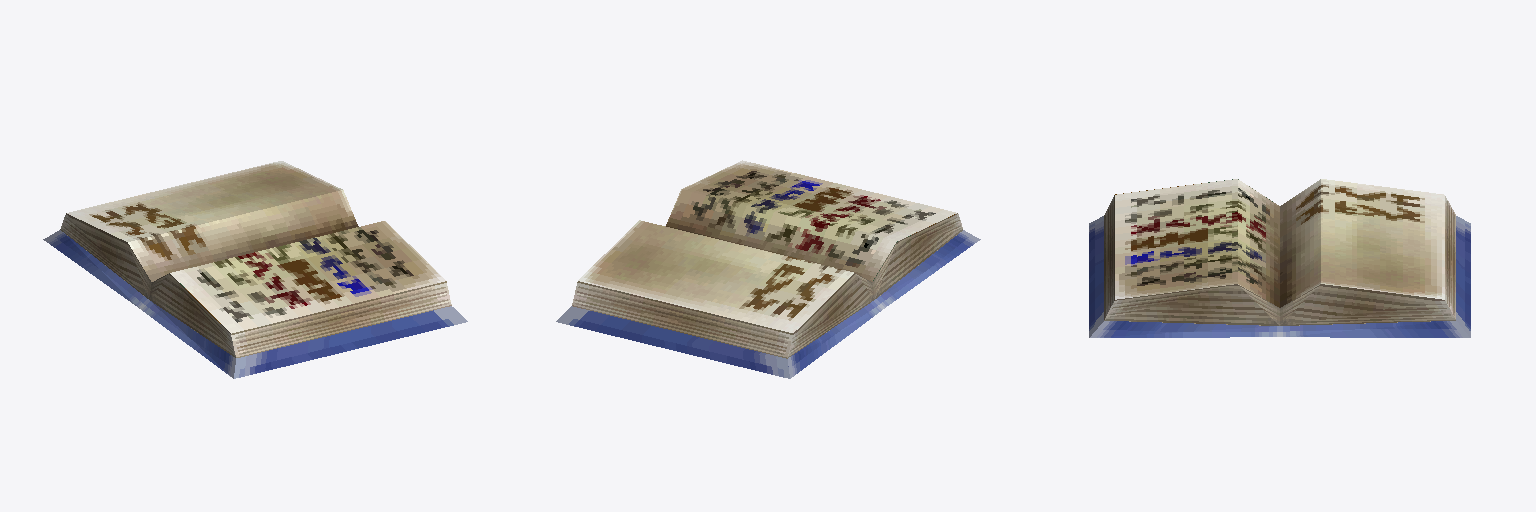
The picture shows the model from 3 angles: view 1: azimuth 30°, elevation 25°; view 2: azimuth 150°, elevation 25°; view 3: azimuth 270°, elevation 25°; orthographic projection.
Parts seen in each view (by area): view 1: bookmediumopen01.m2; view 2: bookmediumopen01.m2; view 3: bookmediumopen01.m2.
Part boxes in pixels (x1,y1,x2,y2): bookmediumopen01.m2: (43, 161, 467, 378); bookmediumopen01.m2: (556, 160, 980, 378); bookmediumopen01.m2: (1089, 179, 1470, 337).
Size of the model in its own units: 0.6425 by 0.1292 by 0.9025.
Materials: 1 (1 with a texture image).